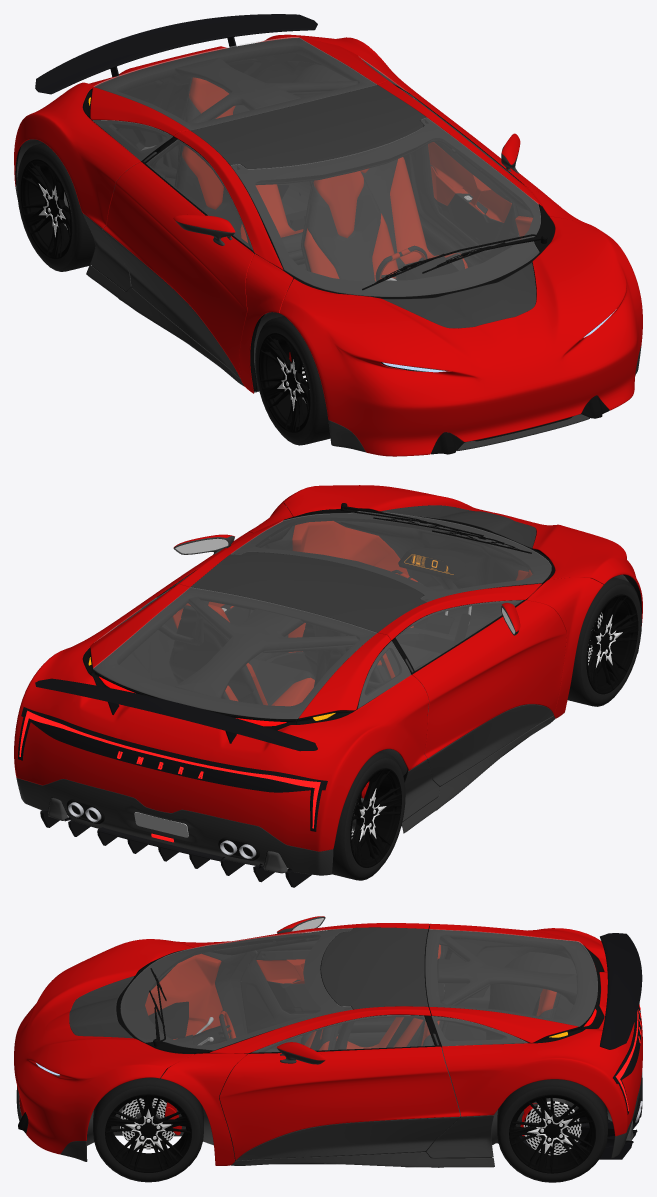
The model's file is car.glb.
The picture shows the model from 3 angles, top to bottom: view 1: azimuth 30°, elevation 25°; view 2: azimuth 150°, elevation 25°; view 3: azimuth 270°, elevation 25°; orthographic projection. The views are drawn at different scales.
Parts seen in each view (by area): view 1: BodyHood, BodyWindshield, BodyRearwindow, BodyDoorRColor1, BodyRearPanelsColor1, BodyRoofPanel, BodyWindshieldGasket, InteriorSeatsColor1, InteriorSeatsColor2, BodyPillars, BodyWing, InteriorPillar (+22 smaller); view 2: BodyRearPanelsColor1, BodyRearwindow, BodyWindshield, BodyDoorRColor1, BodyPanelsColor2, BodyRoofPanel, BodyHood, InteriorRearHatch, BodyPillars, InteriorPillar, BodyTailBand, InteriorDashMid (+27 smaller); view 3: BodyWindshield, BodyDoorLColor1, BodyHood, BodyRearPanelsColor1, BodyRearwindow, BodyRoofPanel, BodyPillars, BodyWindshieldGasket, BodyDoorLColor2, BodyPanelsColor2, InteriorRearHatch, Wheel_FL_Rim (+28 smaller).
Part boxes in pixels (x1,y1,x2,y2): BodyHood: (279,216,642,456); BodyWindshield: (231,117,540,296); BodyRearwindow: (94,37,376,130); BodyDoorRColor1: (103,162,253,378); BodyRearPanelsColor1: (14,34,422,228); BodyRoofPanel: (191,85,425,169); BodyWindshieldGasket: (231,118,555,298); InteriorSeatsColor1: (182,77,467,281); InteriorSeatsColor2: (178,97,464,281); BodyPillars: (174,81,589,393); BodyWing: (35,14,317,94); InteriorPillar: (156,57,428,187); BodyRearPanelsColor1: (14,584,429,851); BodyRearwindow: (93,587,376,718); BodyWindshield: (231,511,551,601); BodyDoorRColor1: (412,600,566,758); BodyPanelsColor2: (16,648,638,875); BodyRoofPanel: (190,552,425,632); BodyHood: (280,485,642,625); InteriorRearHatch: (93,588,388,723); BodyPillars: (177,503,603,718); InteriorPillar: (175,589,420,698); BodyTailBand: (18,707,327,831); InteriorDashMid: (333,517,532,637); BodyWindshield: (120,928,352,1050); BodyDoorLColor1: (219,1046,460,1160); BodyHood: (14,939,194,1154); BodyRearPanelsColor1: (429,923,642,1136); BodyRearwindow: (425,929,597,1026); BodyRoofPanel: (321,927,428,1009); BodyPillars: (161,923,430,1165); BodyWindshieldGasket: (116,929,352,1054); BodyDoorLColor2: (236,1116,459,1160); BodyPanelsColor2: (16,1072,642,1167); InteriorRearHatch: (425,929,597,1043); Wheel_FL_Rim: (105,1094,191,1172).
Bounding box in the file's own units: 2.34 × 1.15 × 4.36.
Materials: 30 (2 with a texture image).
